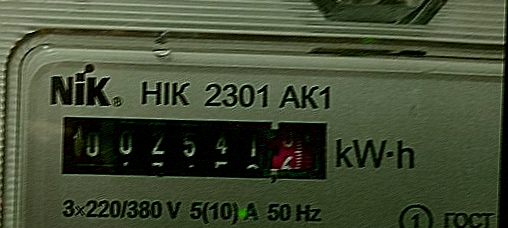0: (116, 126, 136, 160), (85, 131, 103, 160)
1: (244, 128, 261, 161)
2: (147, 126, 169, 161)
4: (213, 128, 231, 159)
5: (181, 129, 198, 162)
6: (278, 153, 295, 175)
screen: (47, 100, 350, 202)
